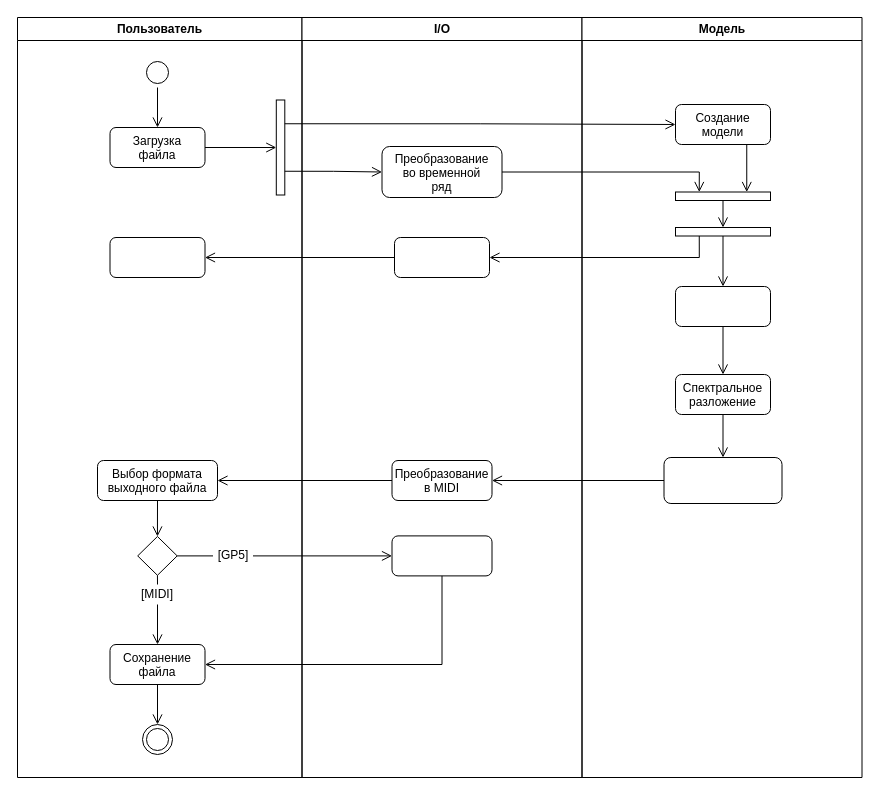
This 880x795 diagram has some shape labels left out. Here are the shapes that lost their labels. From the top down, the centre of each, then its label:
At (x=157, y=257): "Получение уведомления".
At (x=442, y=257): "Отправка уведомления".
At (x=722, y=306): "Удаление шумов".
At (x=722, y=480): "Преобразование в выходной формат".
At (x=441, y=555): "Преобразование в GP5".
